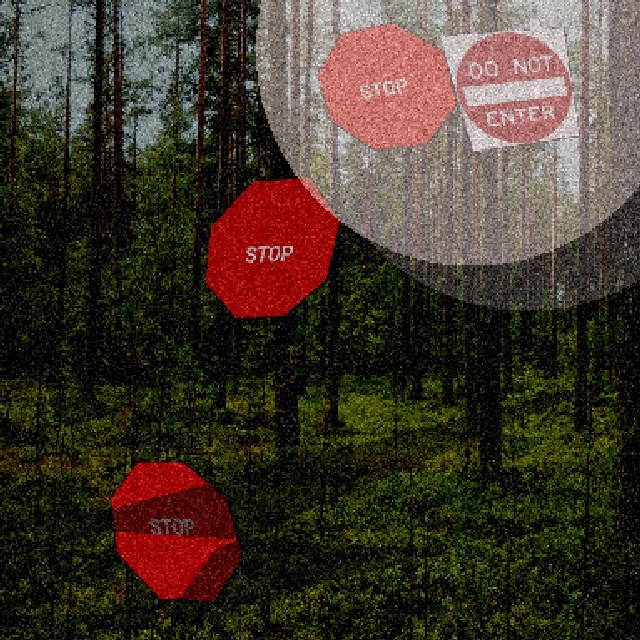DO_NOT_ENTER: (437, 25, 579, 151)
STOP: (203, 175, 340, 317), (108, 460, 242, 602), (315, 20, 457, 149)
